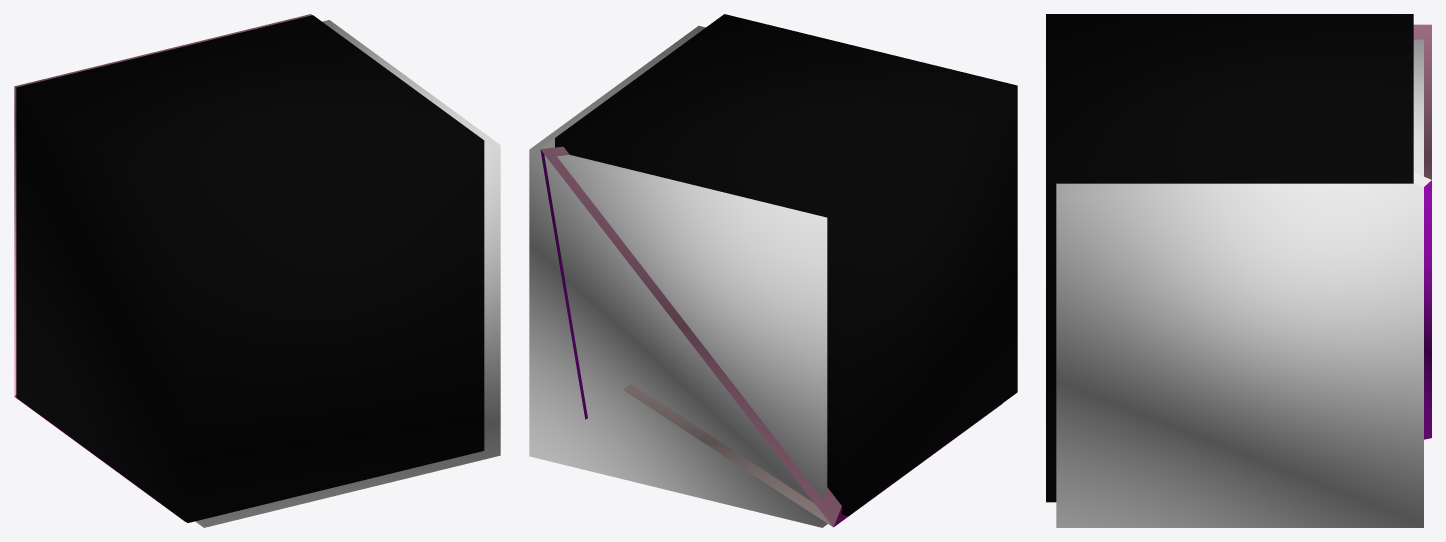
3 views of the same model, side by side, from view 1: azimuth 30°, elevation 25°; view 2: azimuth 150°, elevation 25°; view 3: azimuth 270°, elevation 25° (orthographic). The views are drawn at different scales.
Visible parts, largest first — view 1: Renderer Node; view 2: Renderer Node; view 3: Renderer Node.
Boxes of the visible parts, <box> form: Renderer Node: <box>14,14,500,527</box>; Renderer Node: <box>529,14,1017,527</box>; Renderer Node: <box>1046,14,1431,527</box>.
Size of the model in its own units: 0.9548 by 0.9296 by 0.9354.
